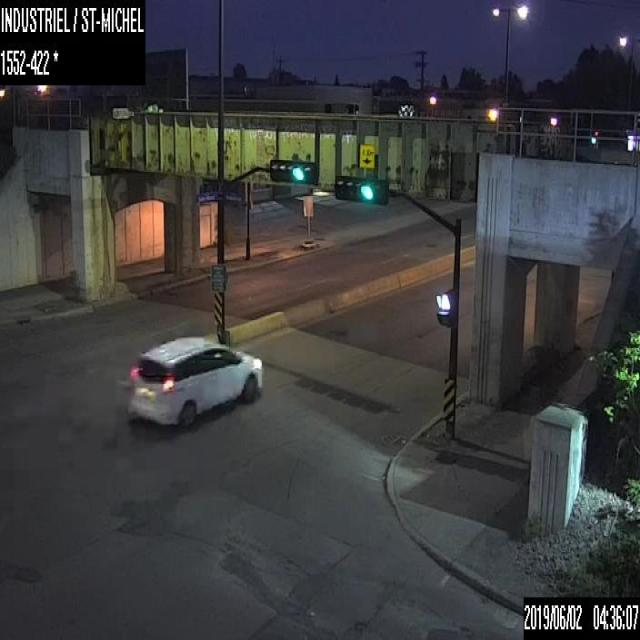vehicle: (125, 334, 263, 429)
